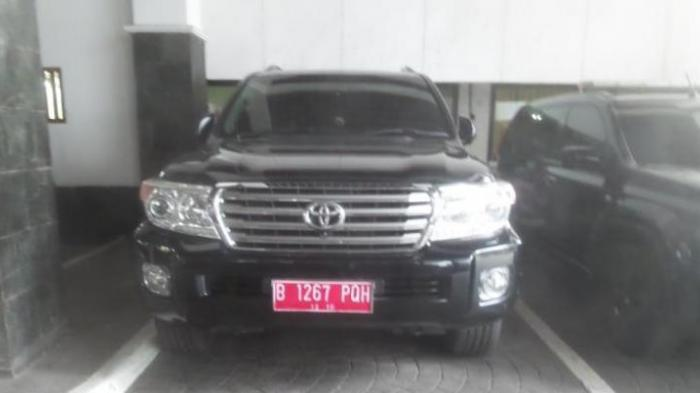plate: (269, 276, 374, 316)
